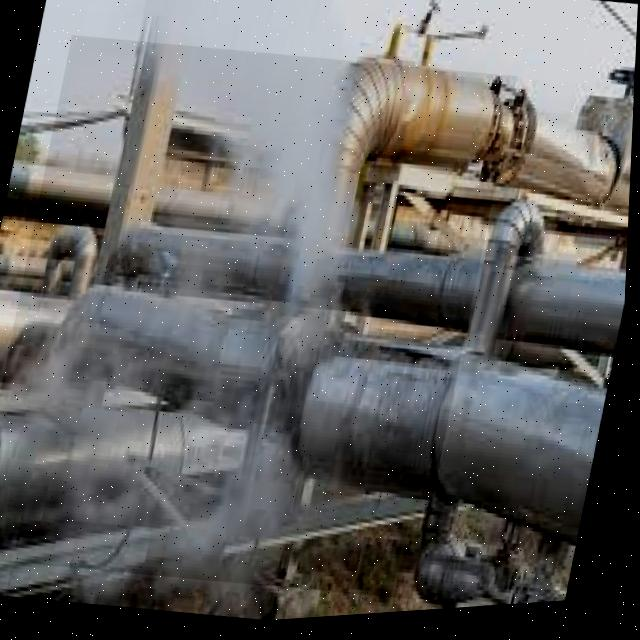corrosion: (195, 150, 417, 495)
